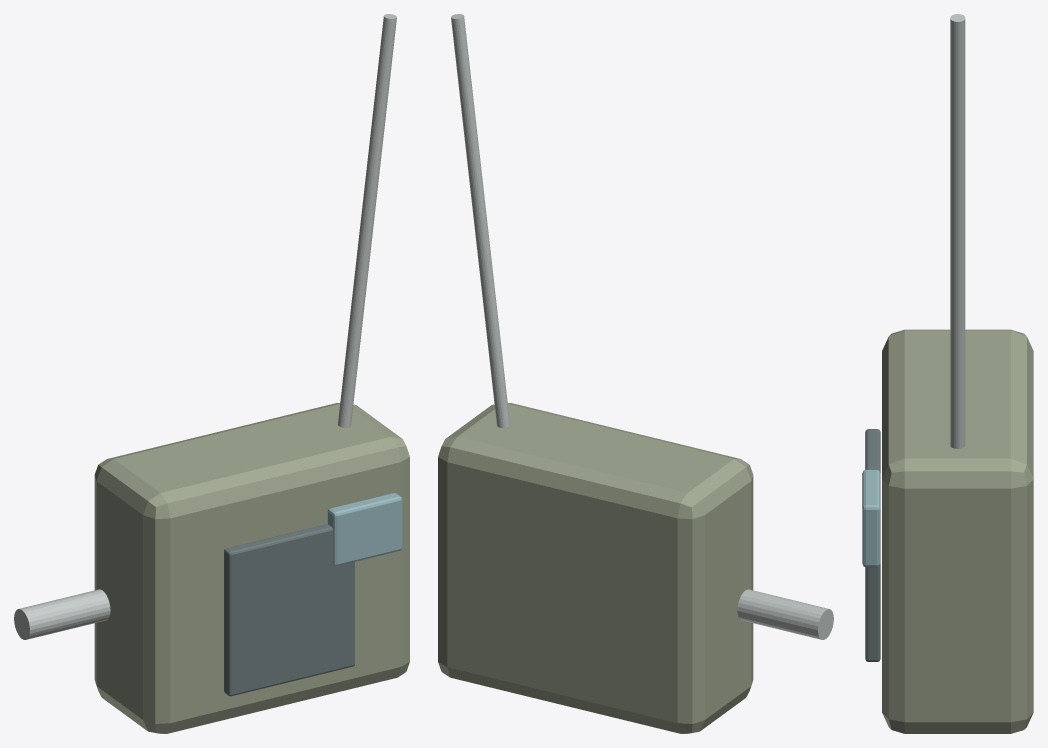
The picture shows the model from 3 angles, left to right: view 1: azimuth 30°, elevation 25°; view 2: azimuth 150°, elevation 25°; view 3: azimuth 270°, elevation 25°; orthographic projection. The views are drawn at different scales.
Visible parts, largest first — view 1: radio, speaker, antenna, frequency window, crank; view 2: radio, antenna, crank; view 3: radio, antenna, speaker, frequency window.
Part boxes in pixels (left/top/right/bottom): radio: left=94, top=403, right=409, bottom=733; speaker: left=224, top=524, right=354, bottom=696; antenna: left=337, top=14, right=396, bottom=427; frequency window: left=327, top=493, right=402, bottom=566; crank: left=14, top=589, right=110, bottom=639; radio: left=438, top=403, right=753, bottom=733; antenna: left=451, top=14, right=510, bottom=427; crank: left=737, top=589, right=833, bottom=639; radio: left=882, top=329, right=1033, bottom=733; antenna: left=950, top=14, right=965, bottom=448; speaker: left=865, top=429, right=880, bottom=661; frequency window: left=862, top=469, right=880, bottom=567.
Size of the model in its own units: 0.325 by 0.5306 by 0.113.
